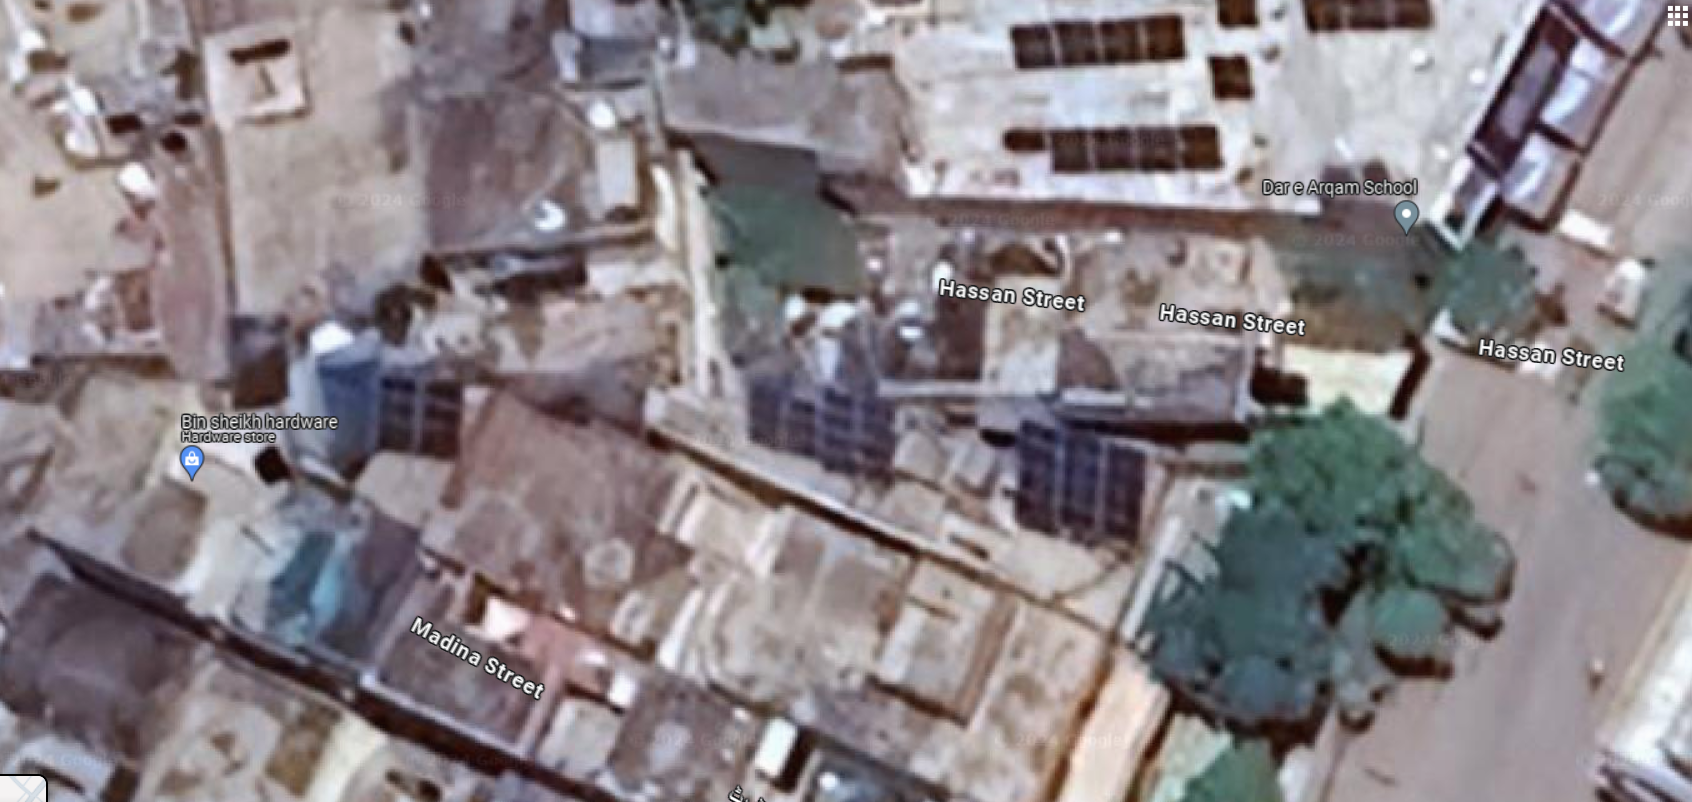solar-panel: (1029, 114, 1254, 201), (738, 365, 915, 473), (1015, 419, 1149, 541), (392, 373, 481, 472), (1012, 12, 1191, 49), (1293, 2, 1444, 33), (1212, 46, 1254, 89), (1220, 3, 1256, 33)
